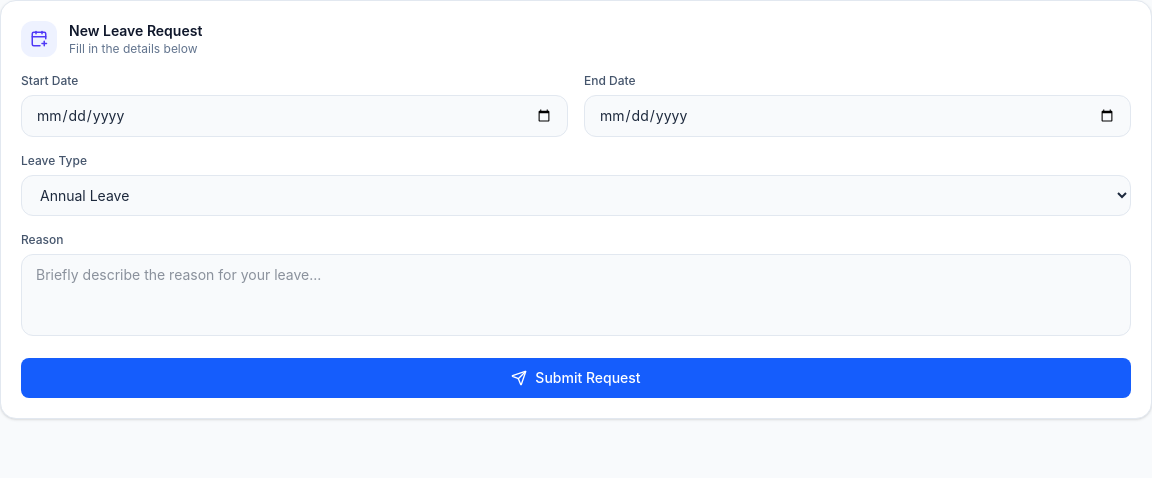
Test case: LeaveRequestForm validation › shows error when reason is too short
The image size is (1152, 478).
Type "short" into the text box with placeholder "Briefly describe the reason for your leave..." at (576, 295), box [21, 254, 1131, 336]
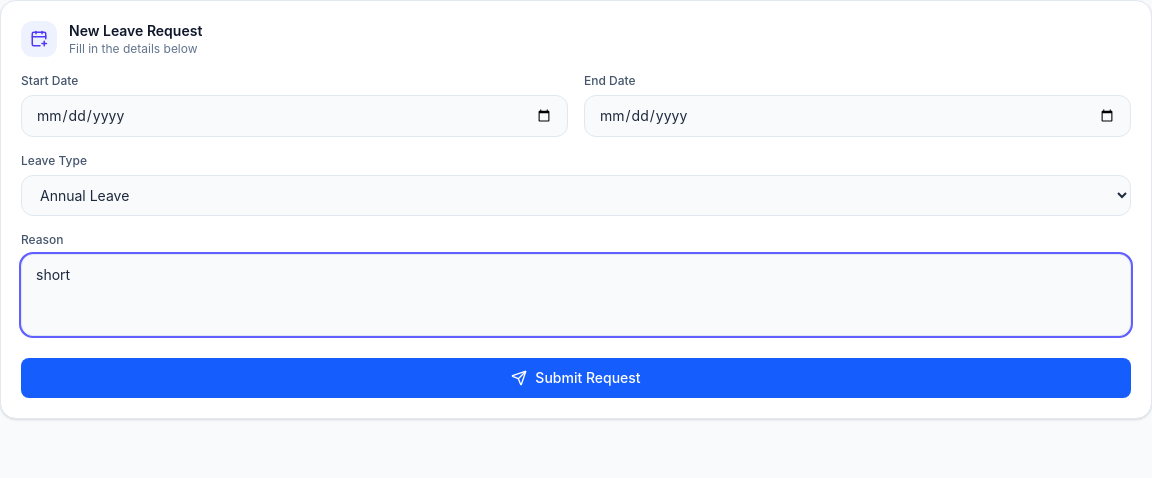
Click the button "Submit Request" at (576, 378), box [21, 358, 1131, 398]
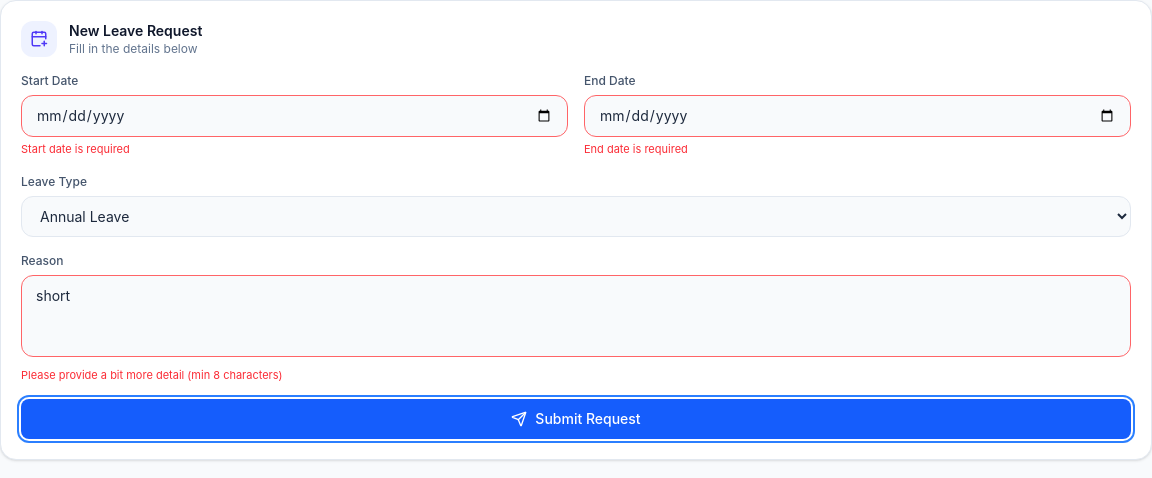
Check: the text "Please provide a bit more detail (min 8 characters)" is shown, box [21, 368, 283, 382]
